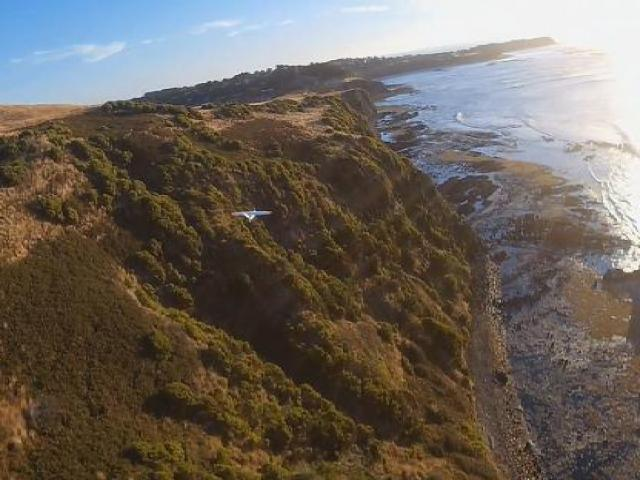uav: (232, 207, 272, 226)
